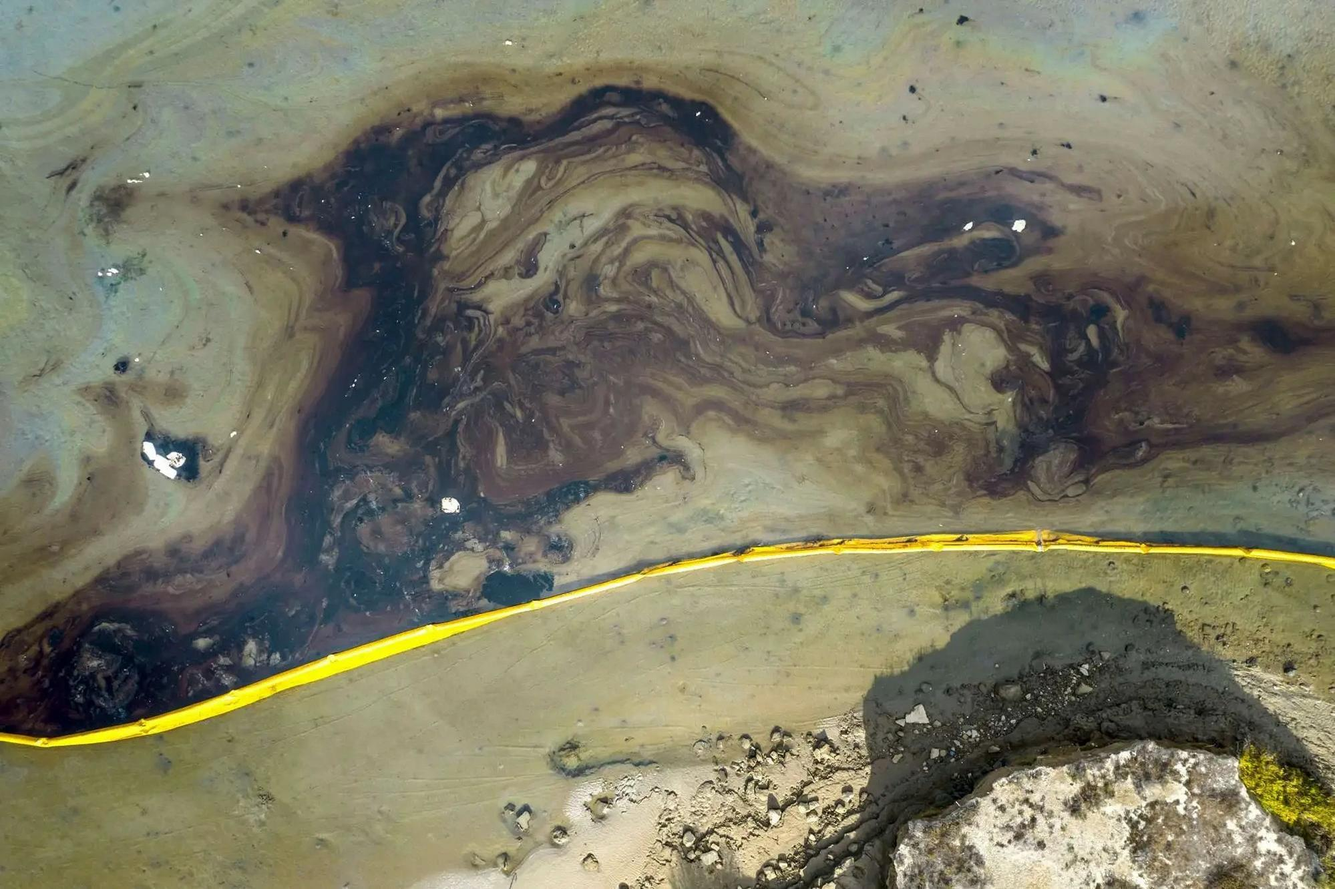Oil Pollution: (14, 49, 1125, 481)
